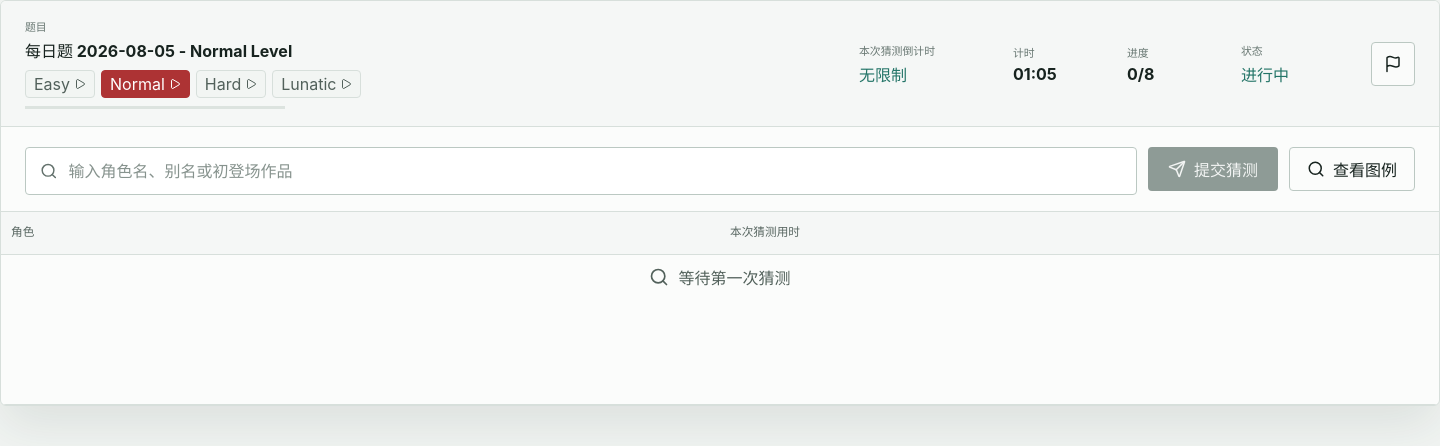
SingleGamePage › falls back to the raw hair color and labels none as 无
Expected: the text "每日题 2026-08-05 - Normal Level" is shown, [25,41,292,61]
In the field named "搜索东方角色": (595, 171) [68,161,1122,181], type "测试"
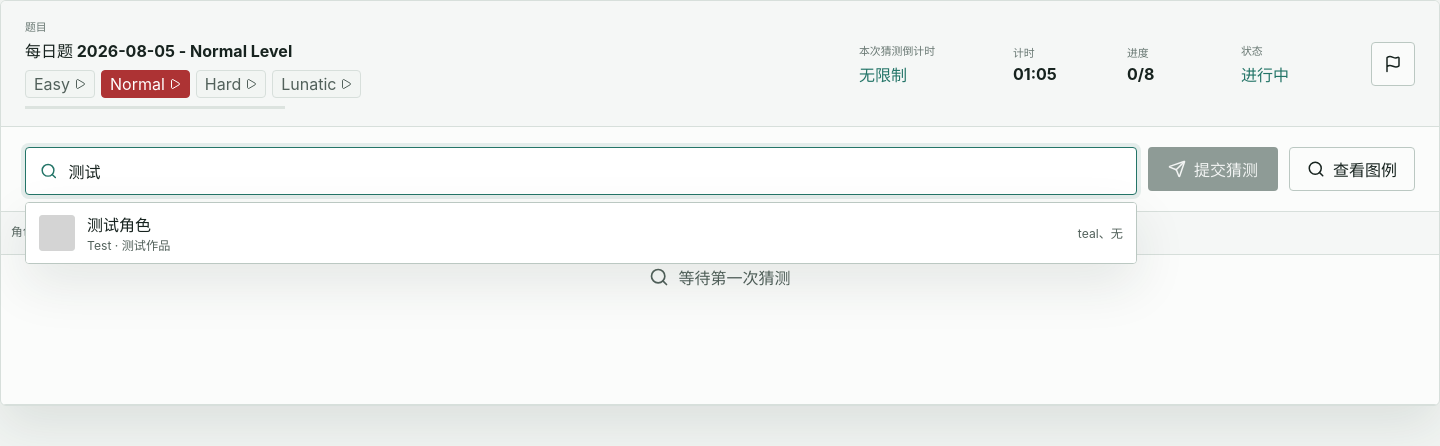
Expected: the text "teal、无" is shown, [1078,224,1123,242]
